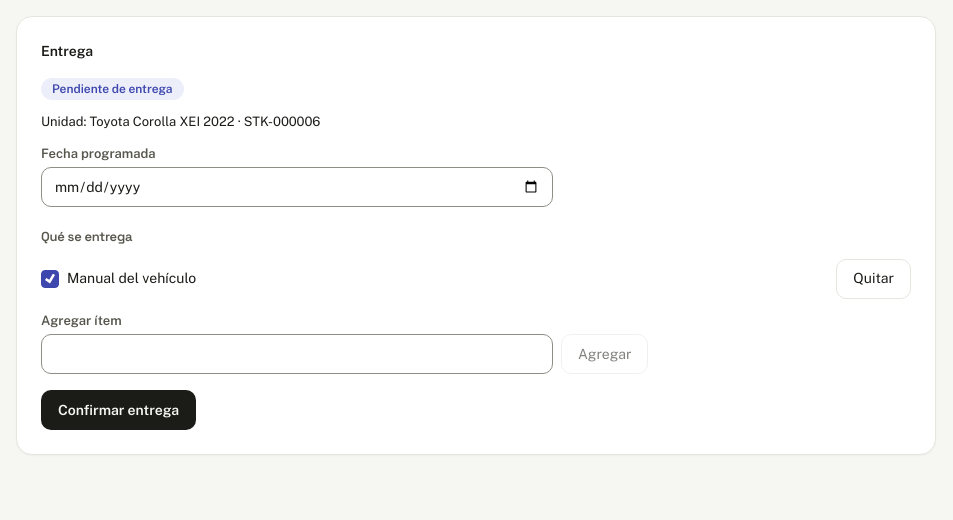
Scenario: DeliverySection › agregar un ítem propio (con Enter) y quitar uno: cada uno es un PATCH con la lista nueva
Expected: the button "Agregar" is disabled, [561, 334, 648, 374]
Type "  Patente provisoria " into the field labelled "Agregar ítem" at (297, 354), box [41, 334, 553, 374]
Then press Enter
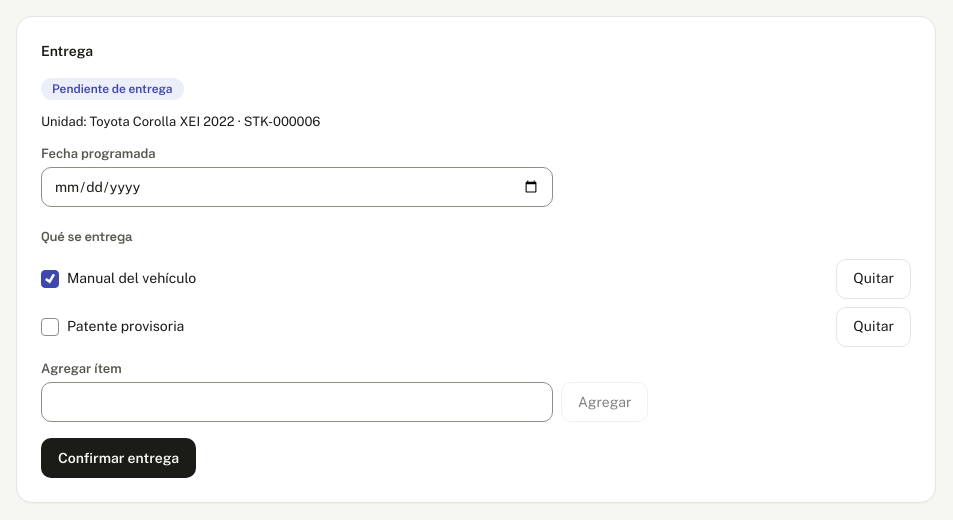
Expected: the field labelled "Agregar ítem" is empty, [41, 382, 553, 422]
Result: the checkbox labelled "Patente provisoria" is not checked at [41, 318, 59, 336]
Click the button with aria-label "Quitar: Manual del vehículo" at (874, 278), box [836, 258, 911, 298]
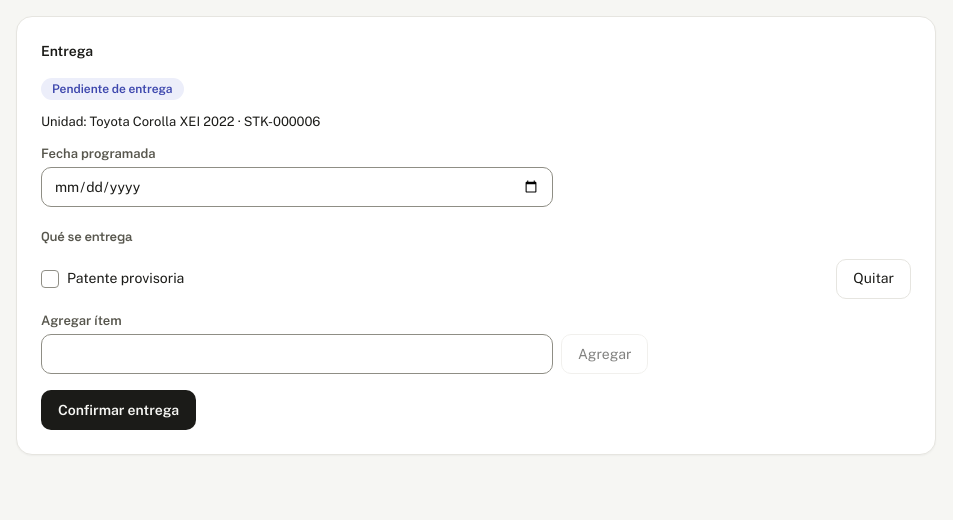
Result: the text labelled "Manual del vehículo" is gone
